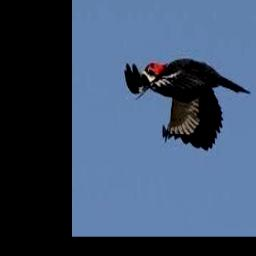Woodpecker: (125, 58, 251, 151)
